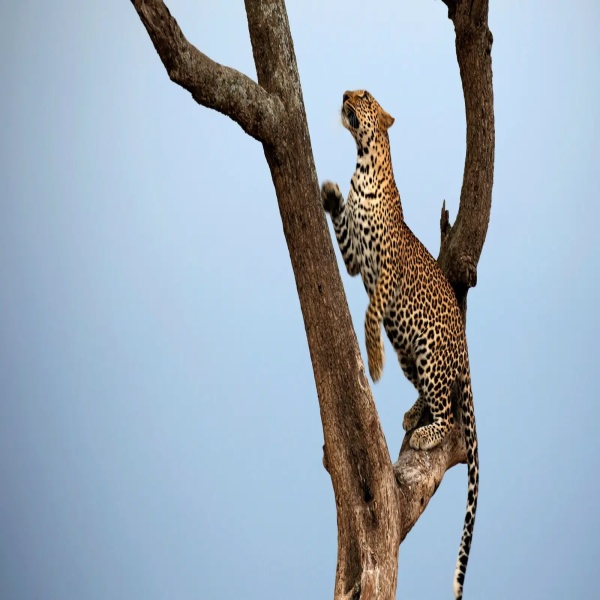Leopard: (317, 87, 484, 600)
